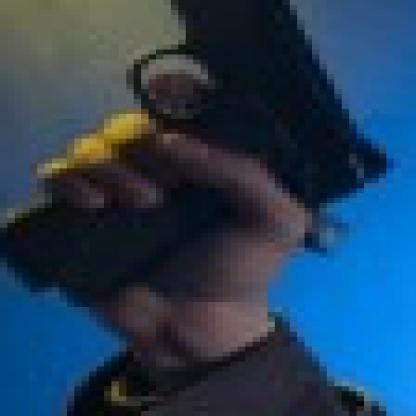gun: (0, 0, 409, 332)
